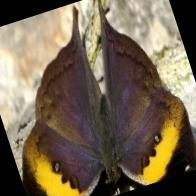butterfly: (22, 0, 196, 196)
